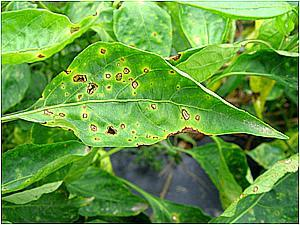black-spot: (99, 58, 156, 99)
